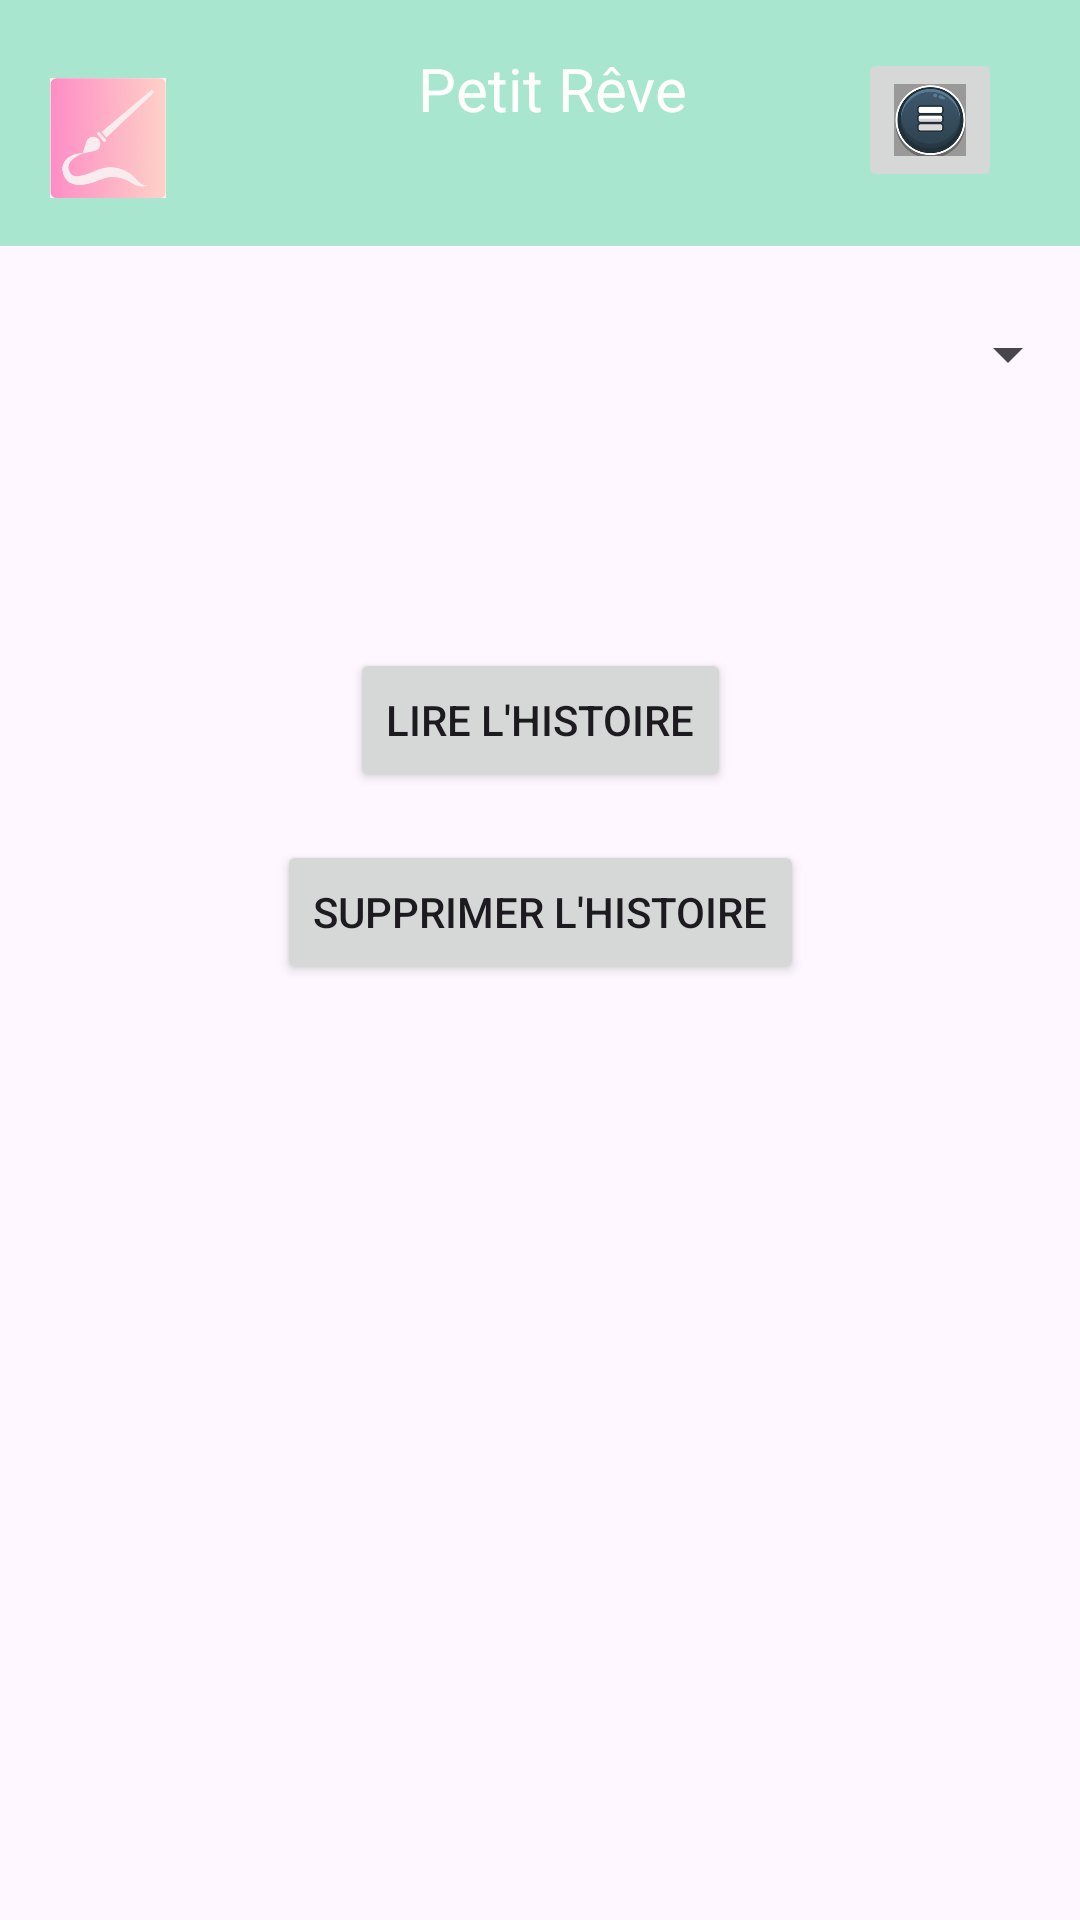

Icons on this 1080px x 1920px Android screen, each with the point to tap as [x,y]:
Menu Button: [930,120]
